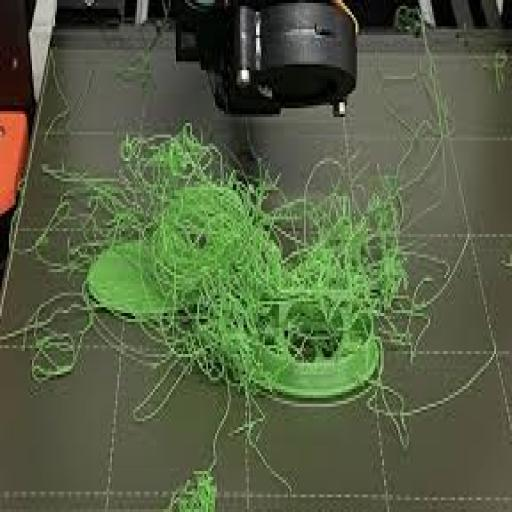spaghetti: (49, 96, 391, 472)
